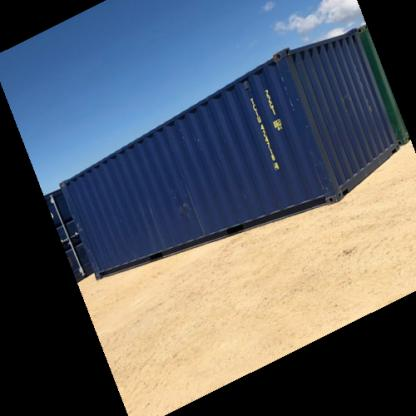Damage: (279, 69, 336, 188), (178, 120, 237, 160), (164, 174, 200, 229)
